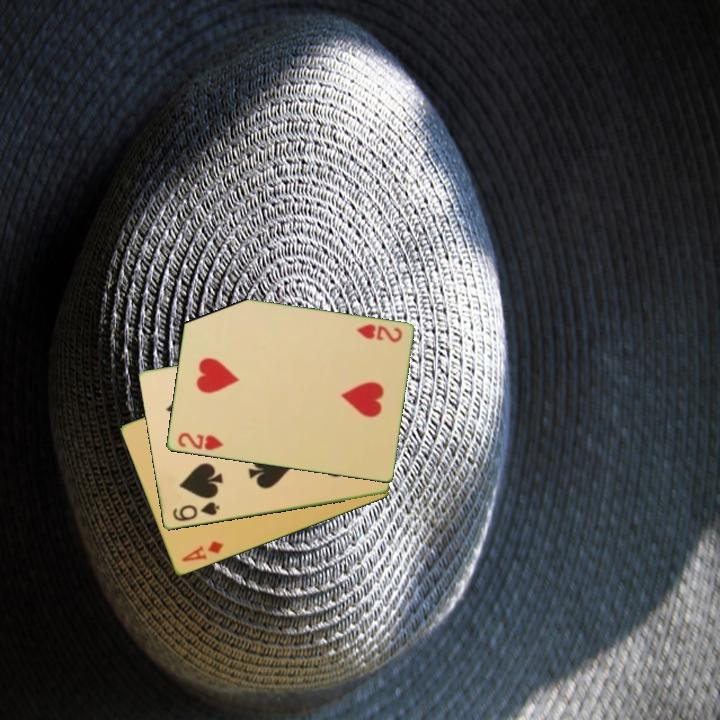2h: (174, 429, 226, 454), (352, 321, 404, 346)
6s: (169, 498, 222, 525)
Ad: (178, 537, 227, 565)
